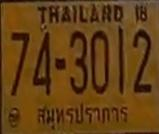0: (90, 29, 109, 95)
1: (116, 24, 126, 97)
2: (132, 29, 153, 93)
3: (69, 30, 89, 96)
4: (33, 32, 52, 95)
7: (10, 32, 30, 98)
SPK: (34, 103, 128, 127)
